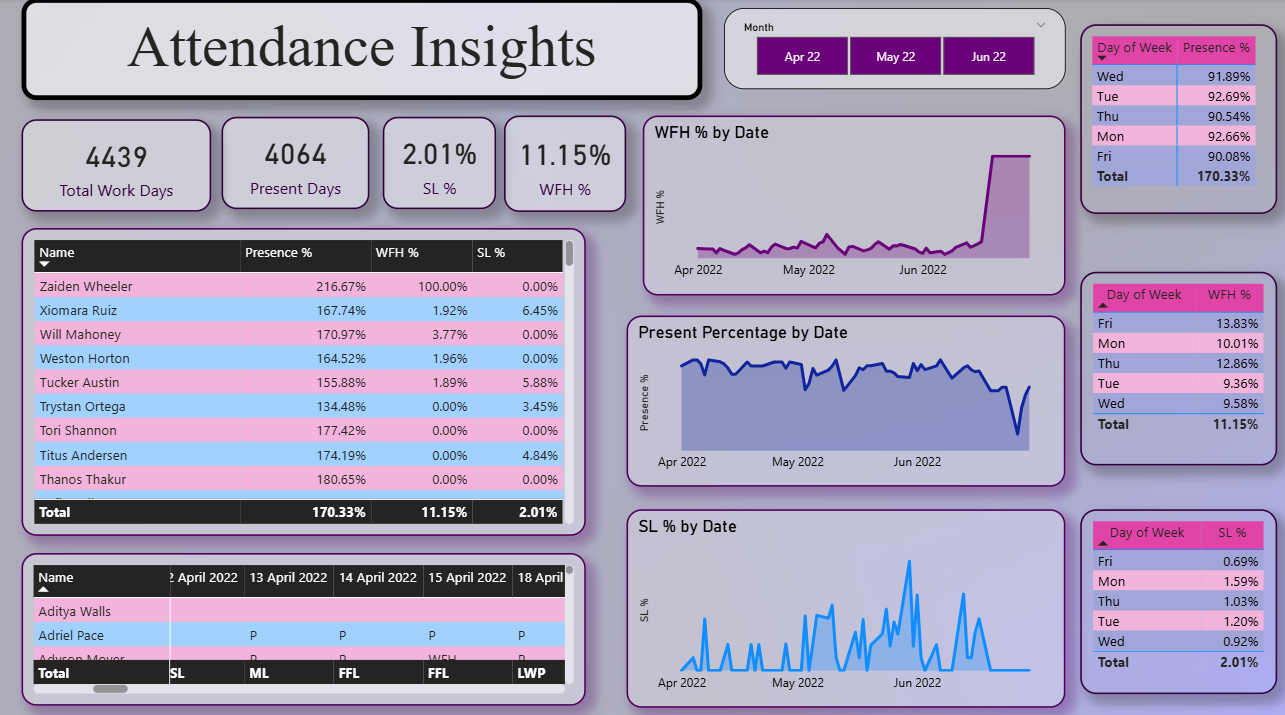

Layout of this report page (visuals, bound fields, positions):
{"tool":"powerbi","page":{"name":"Page 2","canvas":[1280,720],"ordinal":0},"visuals":[{"type":"card","fields":{"Values":["Measure Table.Present Days"]},"box":[220.9,117.8,147.2,92],"z":0},{"type":"card","fields":{"Values":["Measure Table.SL %"]},"box":[381.6,117.8,112.9,92],"z":1000},{"type":"card","fields":{"Values":["Measure Table.WFH %"]},"box":[503.1,116.6,121.5,95.7],"z":2000},{"type":"tableEx","fields":{"Values":["Final Data.Name","Measure Table.Presence %","Measure Table.WFH %","Measure Table.SL %"]},"box":[22.1,229.4,562,306.8],"z":3000},{"type":"pivotTable","fields":{"Rows":["Final Data.Name"],"Columns":["Final Data.Date"],"Values":["Final Data.Value"]},"box":[22.1,552.2,562,152.1],"z":4000},{"type":"stackedAreaChart","fields":{"Category":["Final Data.Date"],"Y":["Measure Table.WFH %"]},"box":[640.5,116.6,420.9,179.1],"z":5000},{"type":"stackedAreaChart","fields":{"Category":["Final Data.Date"],"Y":["Measure Table.SL %"]},"box":[624.5,509.2,436.8,197.5],"z":6000},{"type":"stackedAreaChart","title":"Present Percentage by Date","fields":{"Category":["Final Data.Date"],"Y":["Measure Table.Presence %"]},"box":[624.5,316.6,436.8,170.6],"z":7000},{"type":"pivotTable","fields":{"Rows":["Final Data.Day of Week"],"Values":["Measure Table.Presence %"]},"box":[1076.1,25.8,196.3,189],"z":8000},{"type":"tableEx","fields":{"Values":["Final Data.Day of Week","Measure Table.WFH %"]},"box":[1076.1,272.4,196.3,192.6],"z":9000},{"type":"tableEx","fields":{"Values":["Final Data.Day of Week","Measure Table.SL %"]},"box":[1076.1,509.2,196.3,184.1],"z":10000},{"type":"slicer","fields":{"Values":["Final Data.Month"]},"box":[721.5,9.8,339.9,81],"z":11000},{"type":"card","fields":{"Values":["Final Data.Employee Code"]},"box":[22.1,120.2,189,92],"z":12000},{"type":"textbox","box":[22.1,0,677.3,101.8],"z":13000}]}

Visuals, with their boxes in screenshot pixels (x1, y1, x2, y2), scaled from the page's 1280x720 canvas onto the 1285x715 screenshot:
card - Measure Table.Present Days: bbox(222, 117, 370, 208)
card - Measure Table.SL %: bbox(383, 117, 496, 208)
card - Measure Table.WFH %: bbox(505, 116, 627, 211)
tableEx - Final Data.Name x Measure Table.Presence %: bbox(22, 228, 586, 532)
pivotTable - Final Data.Name x Final Data.Date: bbox(22, 548, 586, 699)
stackedAreaChart - Final Data.Date x Measure Table.WFH %: bbox(643, 116, 1066, 294)
stackedAreaChart - Final Data.Date x Measure Table.SL %: bbox(627, 506, 1065, 702)
"Present Percentage by Date" stackedAreaChart: bbox(627, 314, 1065, 484)
pivotTable - Final Data.Day of Week x Measure Table.Presence %: bbox(1080, 26, 1277, 213)
tableEx - Final Data.Day of Week x Measure Table.WFH %: bbox(1080, 271, 1277, 462)
tableEx - Final Data.Day of Week x Measure Table.SL %: bbox(1080, 506, 1277, 688)
slicer - Final Data.Month: bbox(724, 10, 1066, 90)
card - Final Data.Employee Code: bbox(22, 119, 212, 211)
textbox: bbox(22, 0, 702, 101)
